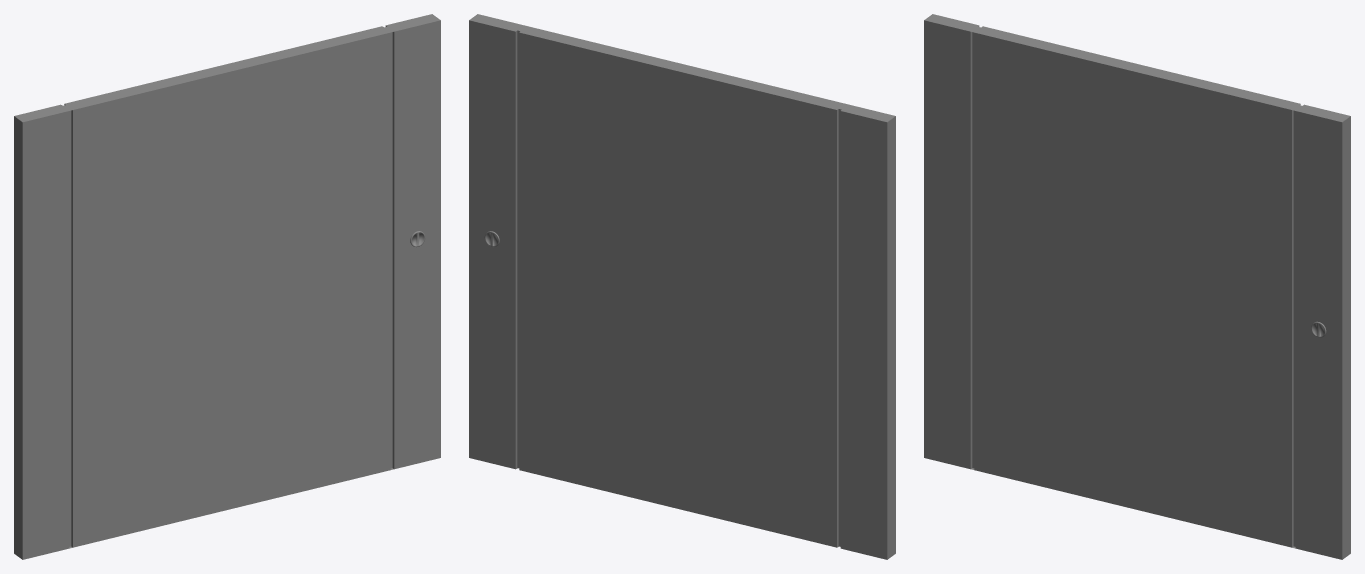
The model's file is floor door.fbx.
3 renders of one model, left to right at view 1: azimuth 30°, elevation 25°; view 2: azimuth 150°, elevation 25°; view 3: azimuth 330°, elevation 25°, orthographic.
Visible parts, largest first — view 1: Cube; view 2: Cube; view 3: Cube.
Boxes of the visible parts, x1=… form: Cube: x1=14, y1=14, x2=440, y2=559; Cube: x1=469, y1=14, x2=895, y2=559; Cube: x1=924, y1=14, x2=1350, y2=559.
Size of the model in its own units: 1216 by 1216 by 49.82.
Materials: 1 (1 with a texture image).
